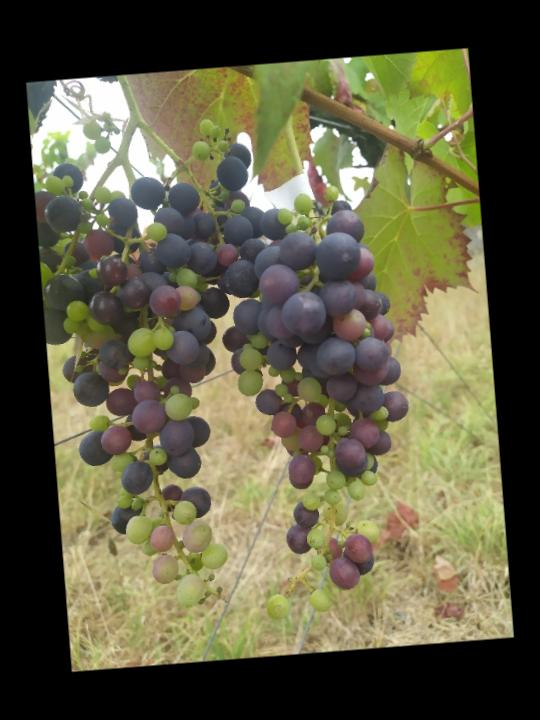grape: (31, 107, 285, 621), (209, 182, 427, 626)
